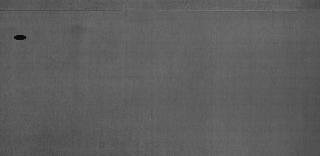punching hole: (12, 32, 30, 42)
welding line: (3, 7, 320, 15)
